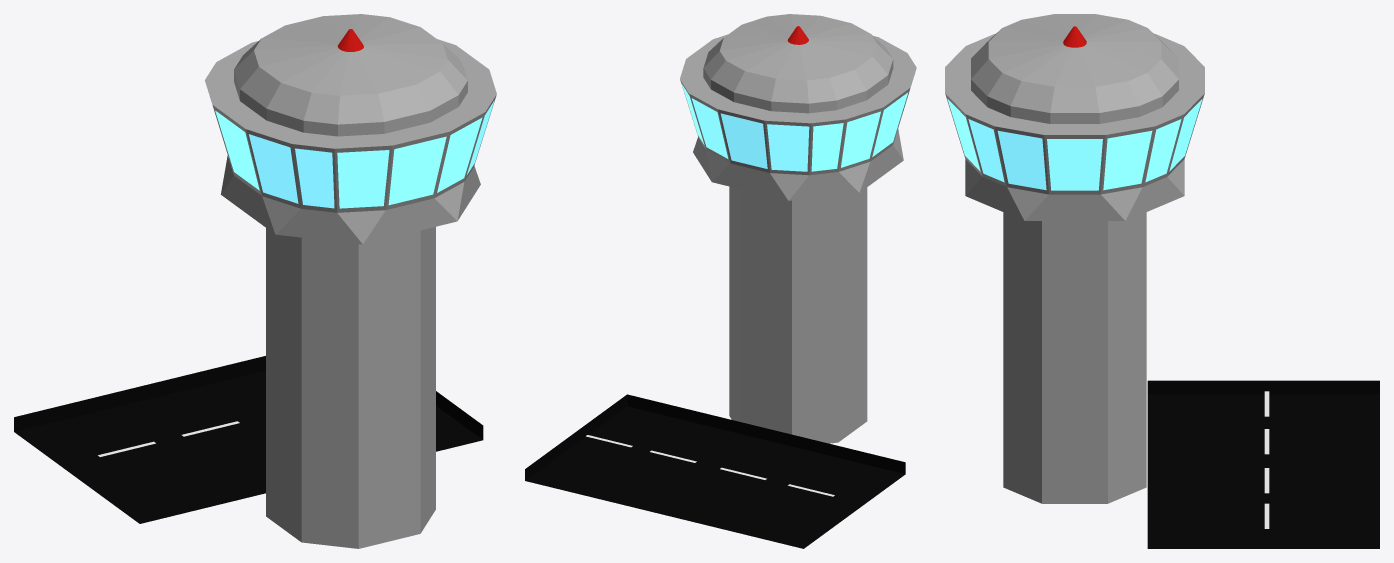
The model's file is tower.glb.
3 views of the same model, side by side, from view 1: azimuth 30°, elevation 25°; view 2: azimuth 150°, elevation 25°; view 3: azimuth 270°, elevation 25° (orthographic). The views are drawn at different scales.
Parts seen in each view (by area): view 1: Cube.001; view 2: Cube.001; view 3: Cube.001.
Boxes of the visible parts, x1,y1,x2,y2 form: Cube.001: (14, 14, 496, 548); Cube.001: (525, 14, 916, 548); Cube.001: (945, 14, 1379, 548).
Size of the model in its own units: 2.56 by 3.44 by 3.04.
Materials: 1 (1 with a texture image).
